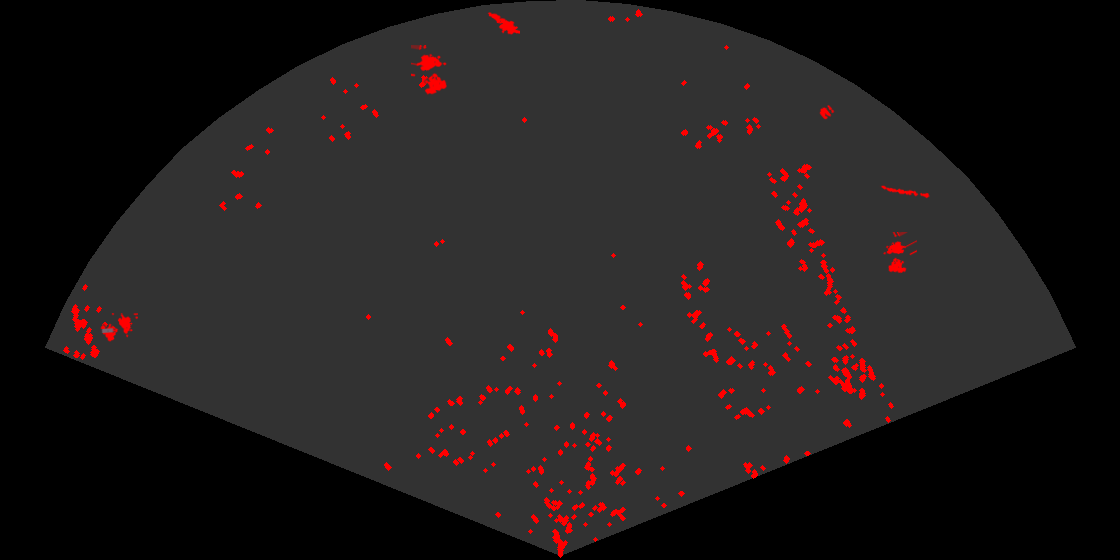ball: (818, 103, 836, 121)
cage: (411, 45, 448, 96), (882, 232, 917, 275), (99, 313, 138, 343)
chain: (879, 184, 930, 200)
frogman: (486, 11, 520, 36)
